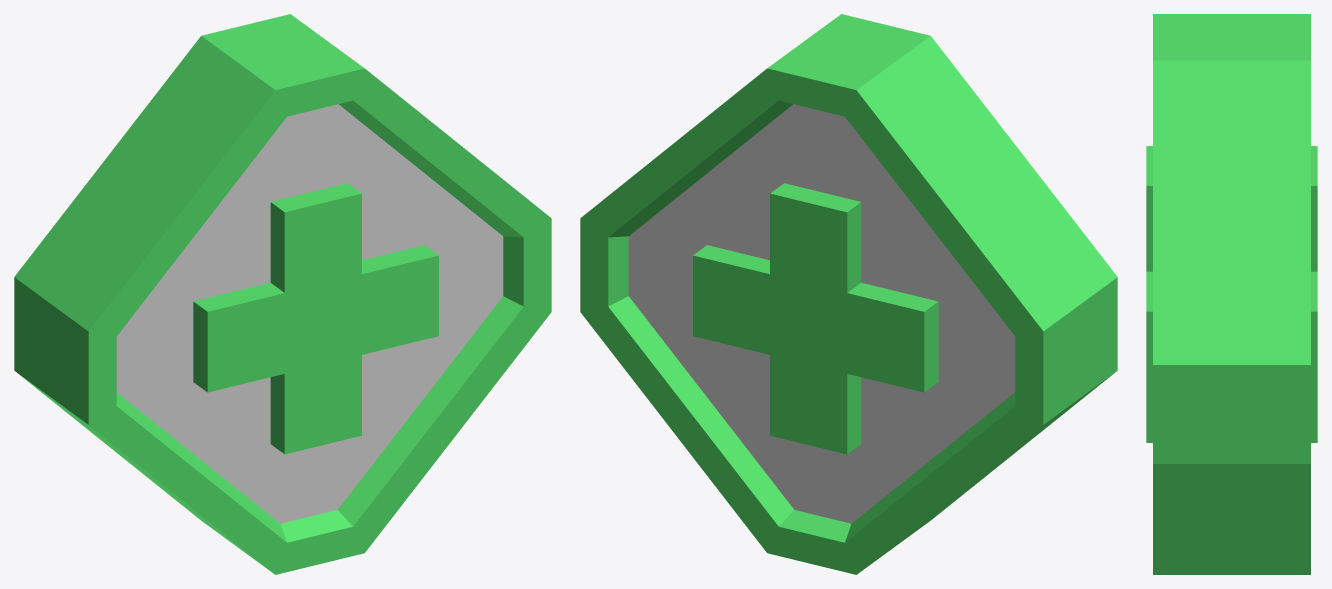
File: bonus_boost_health.glb
3 views of the same model, side by side, from view 1: azimuth 30°, elevation 25°; view 2: azimuth 150°, elevation 25°; view 3: azimuth 270°, elevation 25° (orthographic). The views are drawn at different scales.
Visible parts, largest first — view 1: Cube; view 2: Cube; view 3: Cube.
Part boxes in pixels (bbox=[...]): Cube: bbox=[14, 14, 551, 574]; Cube: bbox=[580, 14, 1117, 574]; Cube: bbox=[1146, 14, 1317, 574].
Bounding box in the file's own units: 2.37 × 2.37 × 0.7156.
